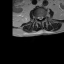CCS_stenosis: (39, 15, 41, 20)
LFS_stenosis: (43, 15, 44, 19)
LLS_normal: (41, 15, 42, 19)
RFS_normal: (36, 15, 38, 20)
RLS_normal: (38, 15, 39, 20)
